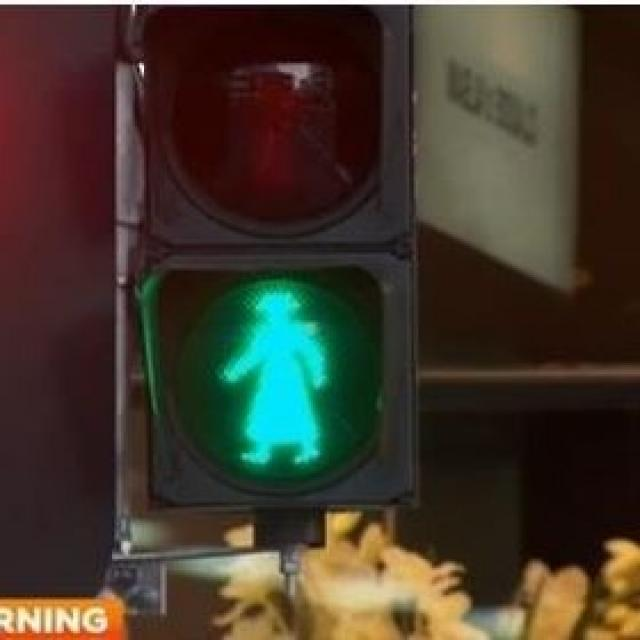Go: (122, 263, 410, 508)
